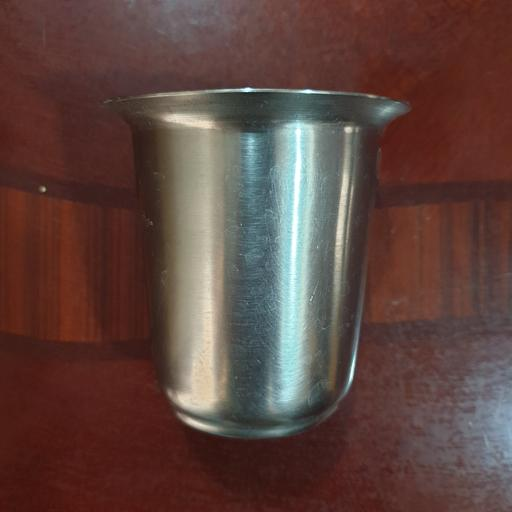glass-tumbler: (101, 88, 411, 442)
